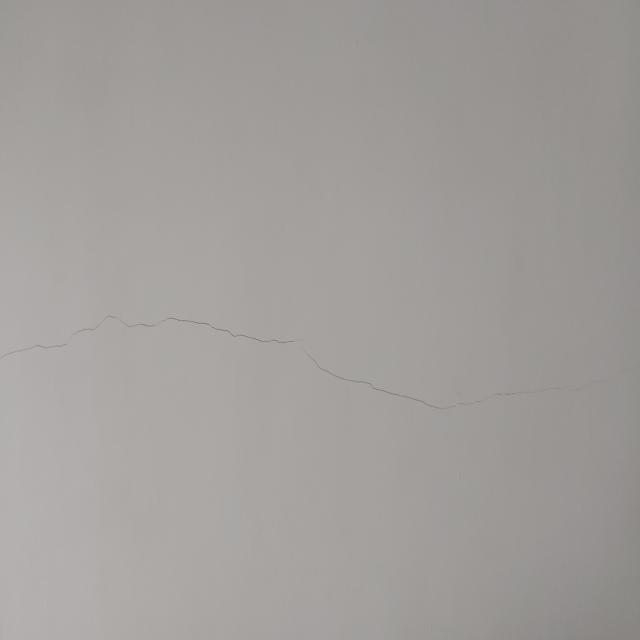Crack: (1, 314, 629, 438), (160, 315, 325, 439), (3, 316, 158, 441), (326, 317, 484, 436), (484, 317, 628, 441)
